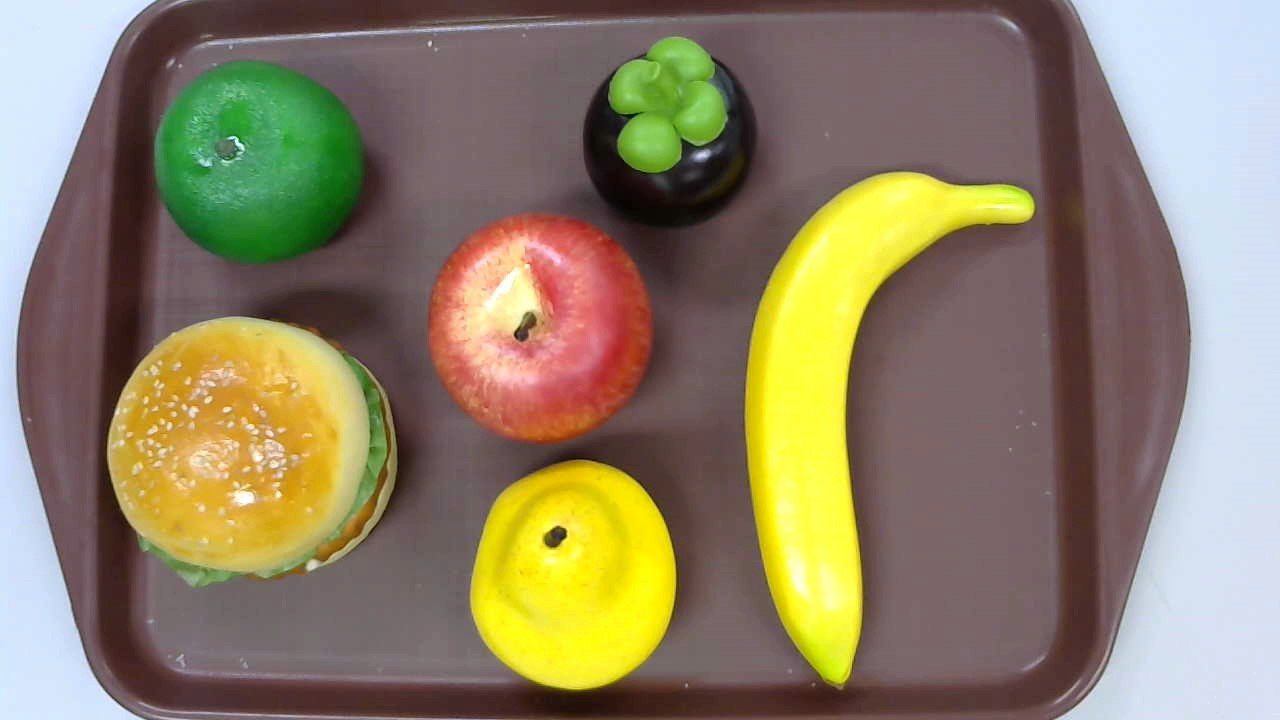banana: (742, 171, 1034, 692)
green orange: (153, 60, 366, 264)
hamburger: (107, 316, 398, 589)
mangosteen: (583, 36, 758, 226)
red apple: (428, 211, 655, 447)
yellow pear: (470, 458, 678, 694)
